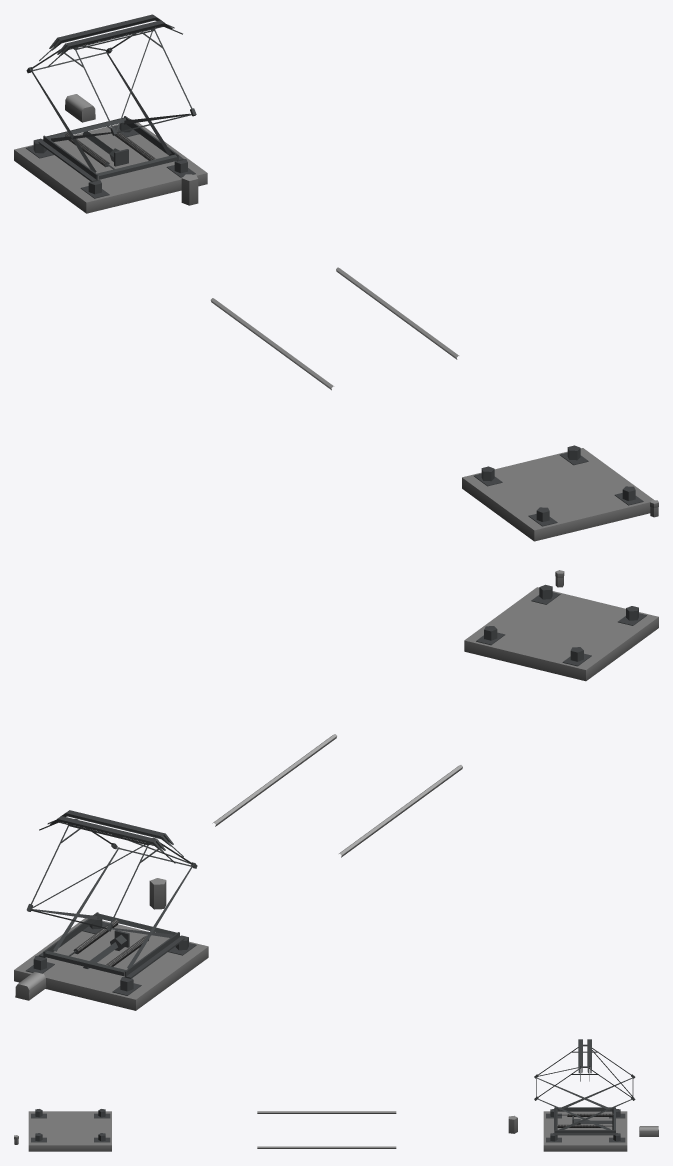
File: JR223_PANTA00.glb
3 renders of one model, top to bottom at view 1: azimuth 30°, elevation 25°; view 2: azimuth 150°, elevation 25°; view 3: azimuth 270°, elevation 25°, orthographic. The views are drawn at different scales.
Visible parts, largest first — view 1: panta; view 2: panta; view 3: panta.
Boxes of the visible parts, x1=… form: panta: x1=14, y1=14, x2=658, y2=541; panta: x1=14, y1=570, x2=658, y2=1010; panta: x1=14, y1=1039, x2=658, y2=1151.
Bounding box in the file's own units: 4.48 × 4.48 × 32.06.
Materials: 3 (3 with a texture image).
